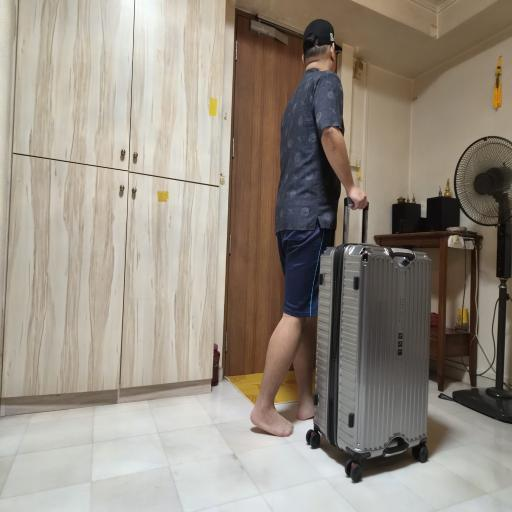person_right: (258, 12, 442, 480)
